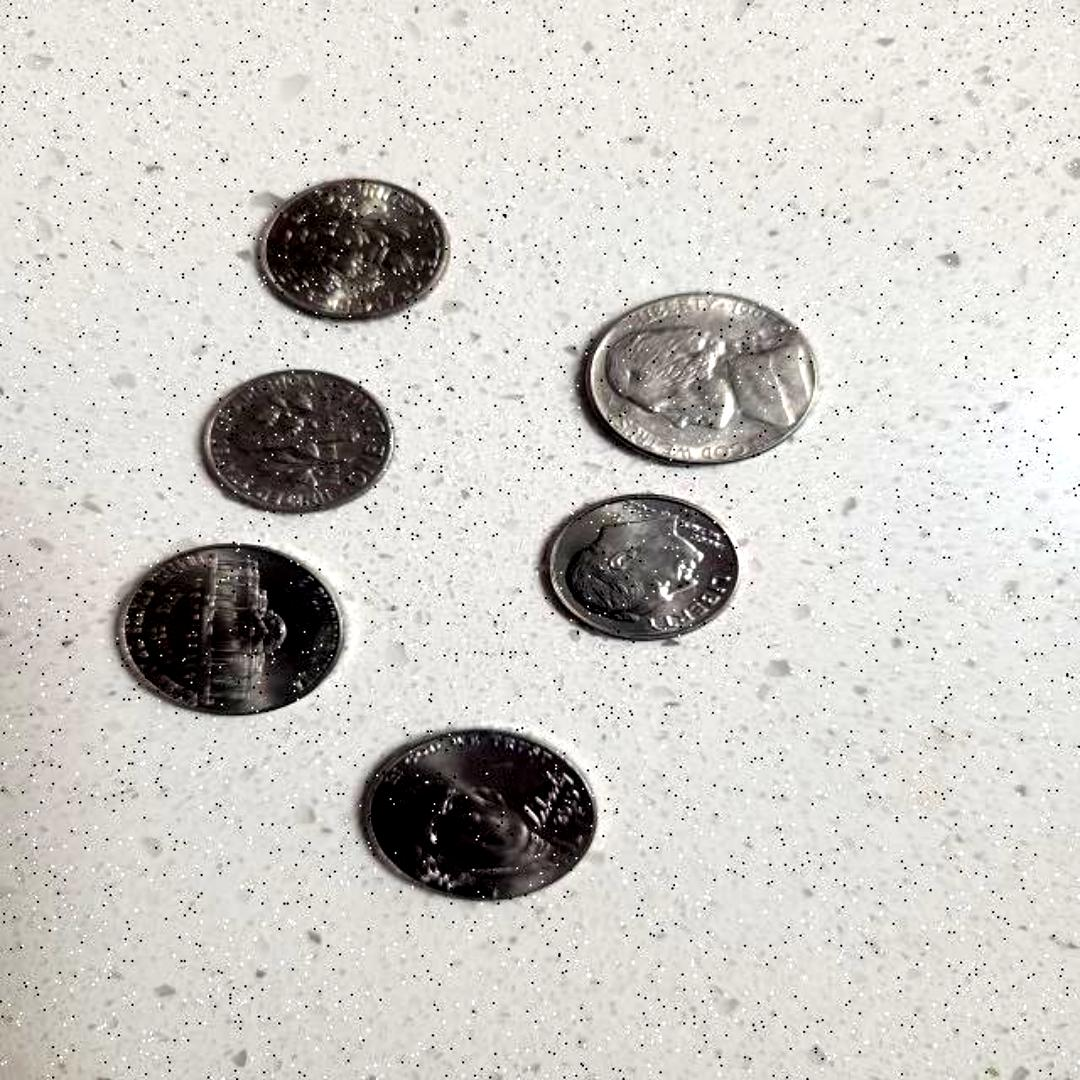Dime: (245, 162, 459, 330), (535, 488, 749, 642), (197, 358, 404, 514)
Nickel: (580, 286, 852, 476), (101, 535, 359, 720), (355, 725, 601, 905)
